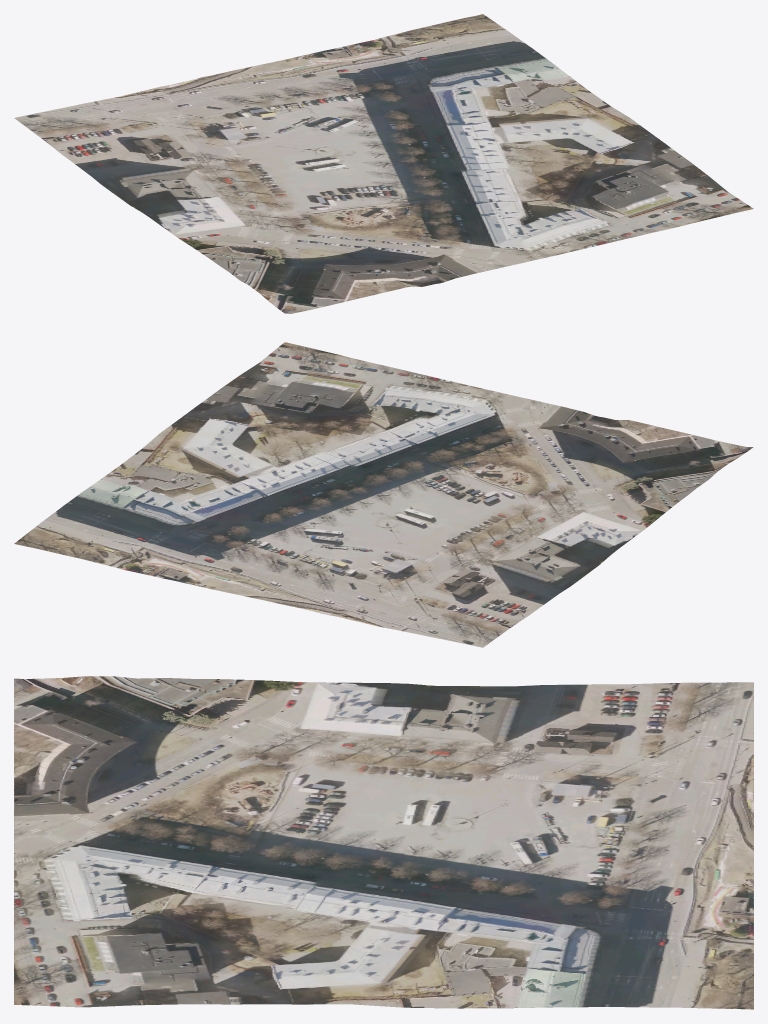
The model's file is CM_Terrain_24486158_6820818.fbx.
3 views of the same model, one above another, from view 1: azimuth 30°, elevation 25°; view 2: azimuth 150°, elevation 25°; view 3: azimuth 270°, elevation 25° (orthographic). The views are drawn at different scales.
Visible parts, largest first — view 1: CM_Terrain_24486158_6820818_LOD0; view 2: CM_Terrain_24486158_6820818_LOD0; view 3: CM_Terrain_24486158_6820818_LOD0.
Part boxes in pixels (left/top/right/bottom): CM_Terrain_24486158_6820818_LOD0: left=14, top=14, right=753, bottom=313; CM_Terrain_24486158_6820818_LOD0: left=14, top=342, right=753, bottom=647; CM_Terrain_24486158_6820818_LOD0: left=14, top=676, right=753, bottom=1009.
Size of what is drawn, in the model's own units: 205 by 6.24 by 205.
